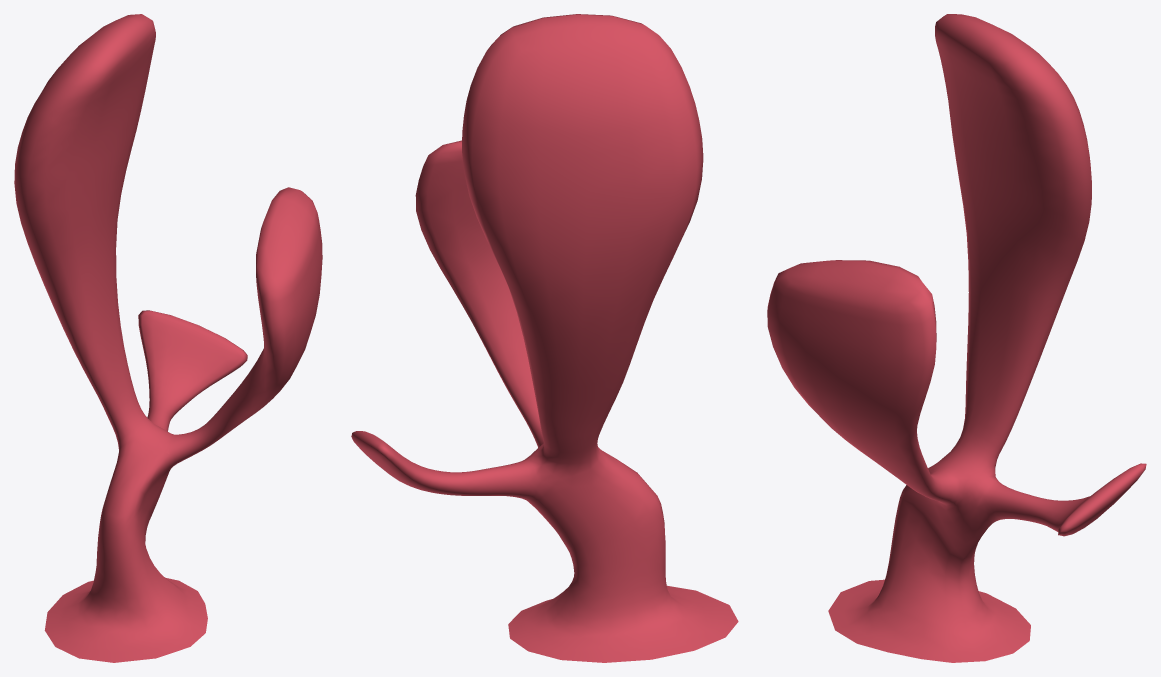
File: BubbleTree_06.fbx
3 views of the same model, side by side, from view 1: azimuth 30°, elevation 25°; view 2: azimuth 150°, elevation 25°; view 3: azimuth 270°, elevation 25° (orthographic). The views are drawn at different scales.
Visible parts, largest first — view 1: BubbleTree_06_LOD0; view 2: BubbleTree_06_LOD0; view 3: BubbleTree_06_LOD0.
Boxes of the visible parts, x1,y1,x2,y2 form: BubbleTree_06_LOD0: [14, 14, 322, 662]; BubbleTree_06_LOD0: [351, 14, 738, 662]; BubbleTree_06_LOD0: [767, 14, 1146, 662].
Size of what is drawn, in the model's own units: 793 by 1550 by 884.
